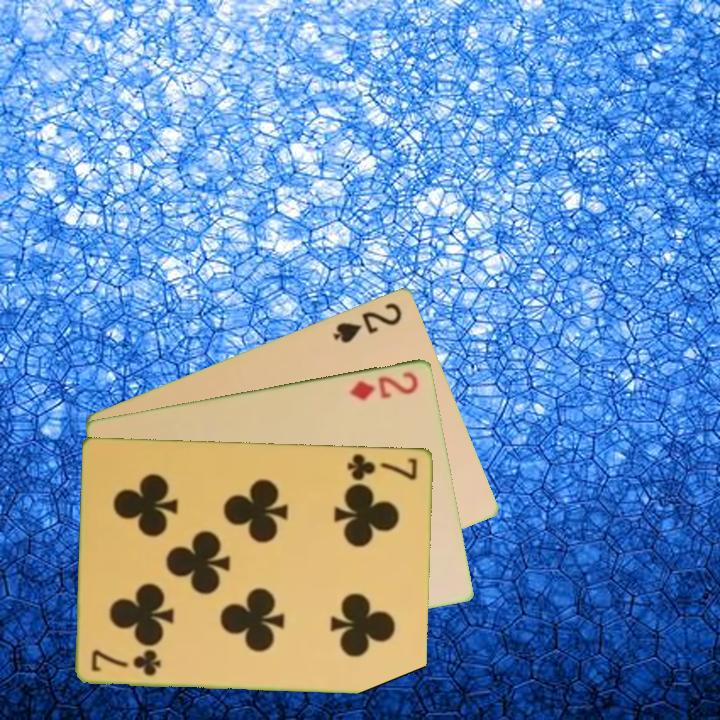2d: (346, 367, 422, 403)
2s: (329, 298, 405, 346)
7c: (344, 450, 420, 483), (88, 646, 164, 679)
